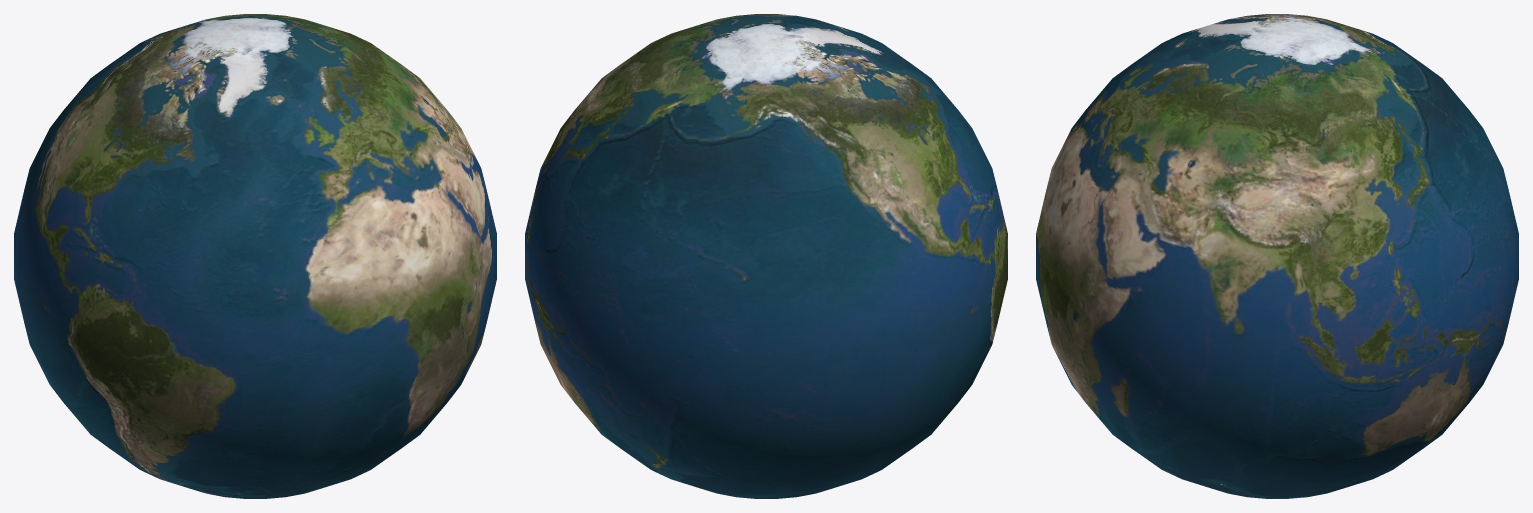
File: tierra.glb
The picture shows the model from 3 angles, left to right: view 1: azimuth 30°, elevation 25°; view 2: azimuth 150°, elevation 25°; view 3: azimuth 270°, elevation 25°; orthographic projection.
Visible parts, largest first — view 1: New; view 2: New; view 3: New.
Boxes of the visible parts, x1,y1,x2,y2 form: New: (14, 14, 496, 498); New: (525, 14, 1007, 498); New: (1036, 14, 1518, 498).
Size of the model in its own units: 1.2 by 1.22 by 1.21.
Materials: 1 (1 with a texture image).
